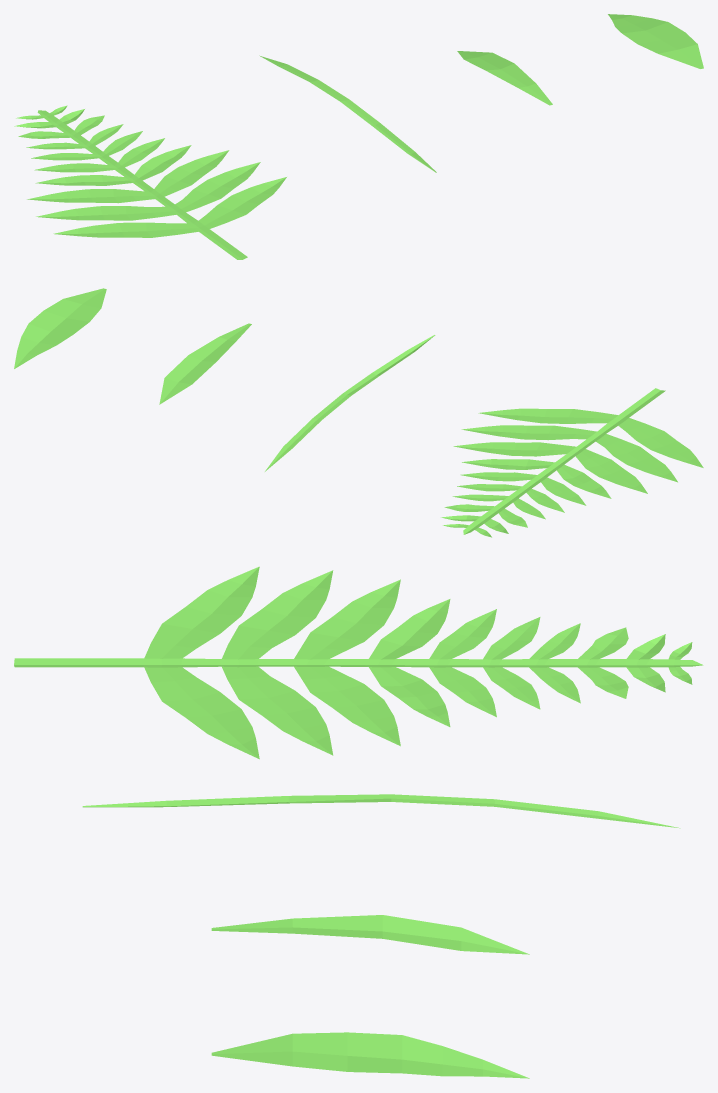
Rendered from Grass_Individual.fbx.
3 renders of one model, top to bottom at view 1: azimuth 30°, elevation 25°; view 2: azimuth 150°, elevation 25°; view 3: azimuth 270°, elevation 25°, orthographic. The views are drawn at different scales.
Parts seen in each view (by area): view 1: Grass_Individual; view 2: Grass_Individual; view 3: Grass_Individual.
Boxes of the visible parts, box(x1,y1,x2,y2) form: Grass_Individual: box(14, 14, 703, 259); Grass_Individual: box(14, 288, 703, 537); Grass_Individual: box(14, 566, 703, 1078).
Size of the model in its own units: 432 by 16.24 by 232.
